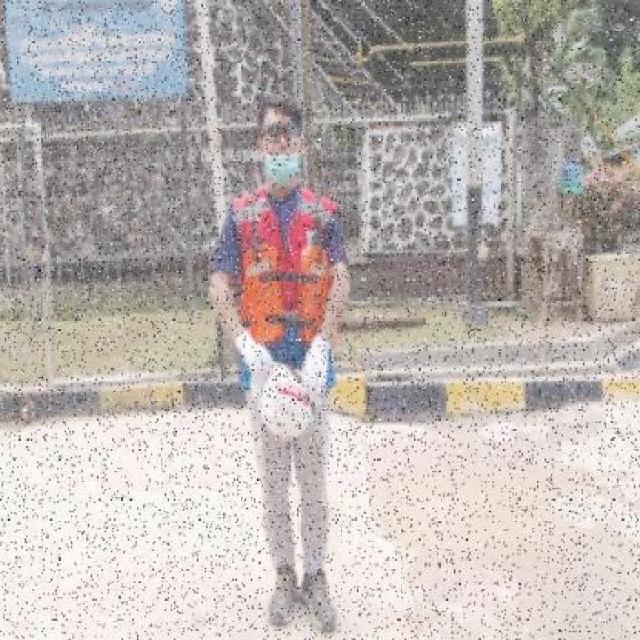Boots: (300, 570, 338, 633), (267, 565, 298, 627)
Gloves: (234, 333, 277, 382), (302, 336, 329, 404)
Helmet: (248, 354, 320, 444)
Mask: (265, 151, 300, 187)
Protective Glasses: (263, 125, 300, 142)
Vest: (239, 248, 330, 346)
